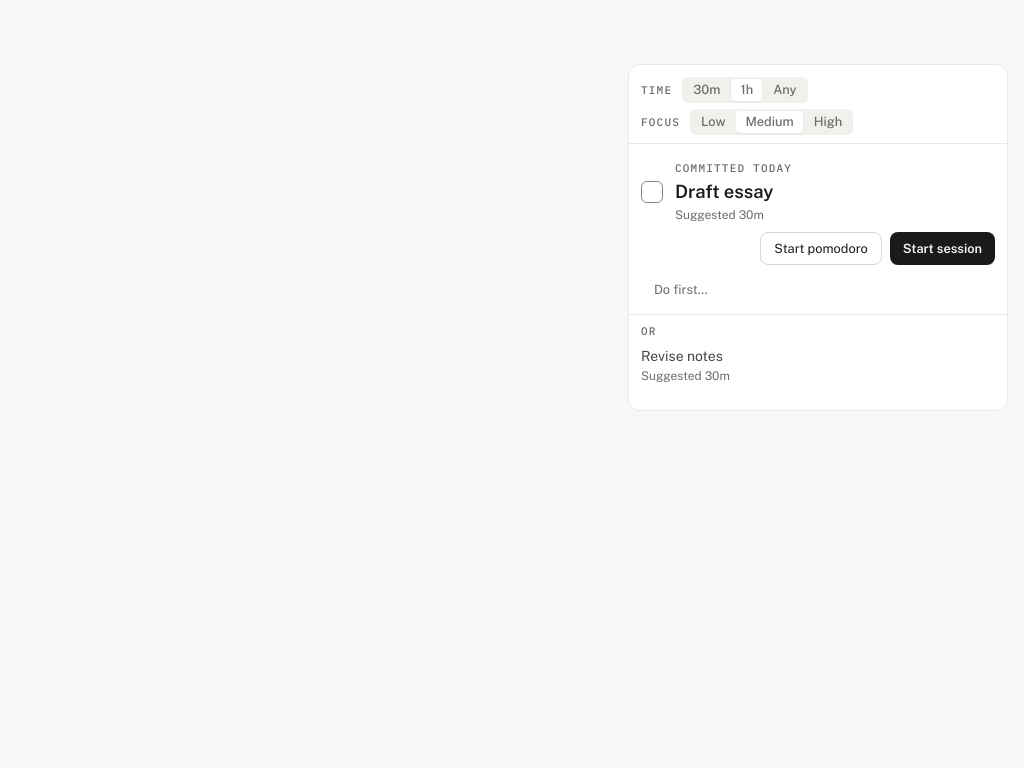
Test case: AssistantHost › insert-before on a picked row pins the new work, not the picked anchor
Click the button "Revise notes Suggested 30m".
click(682, 356)  # box [641, 341, 995, 390]
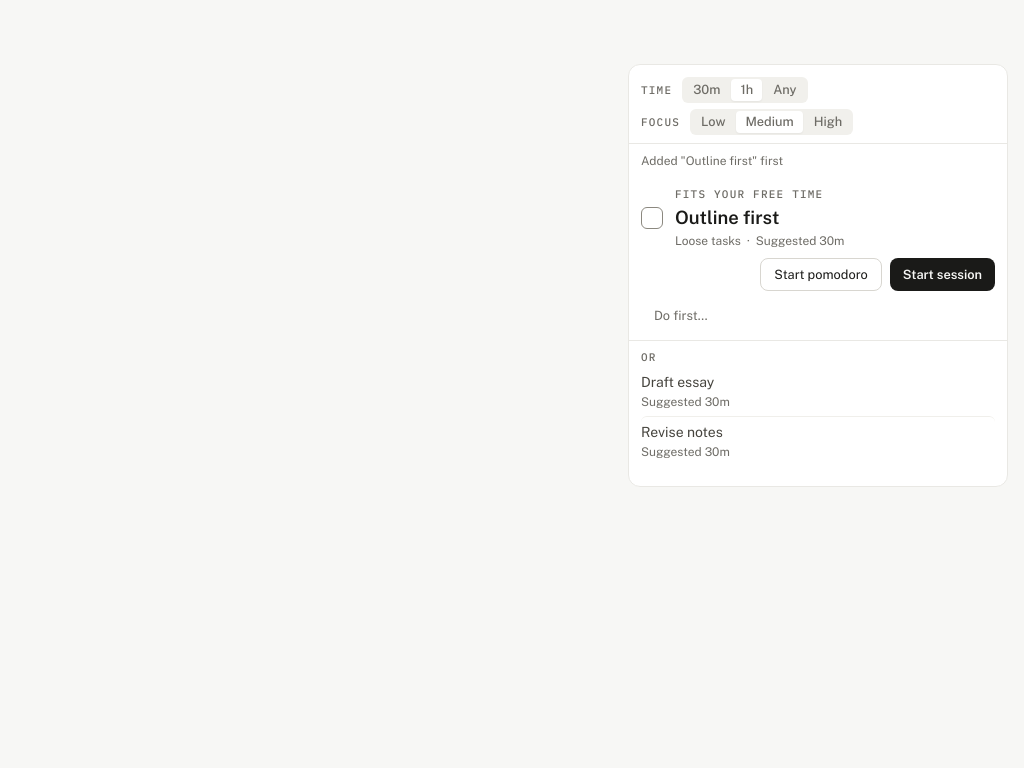
Expected: the heading named "Revise notes" reads "Outline first", [675, 206, 779, 228]
